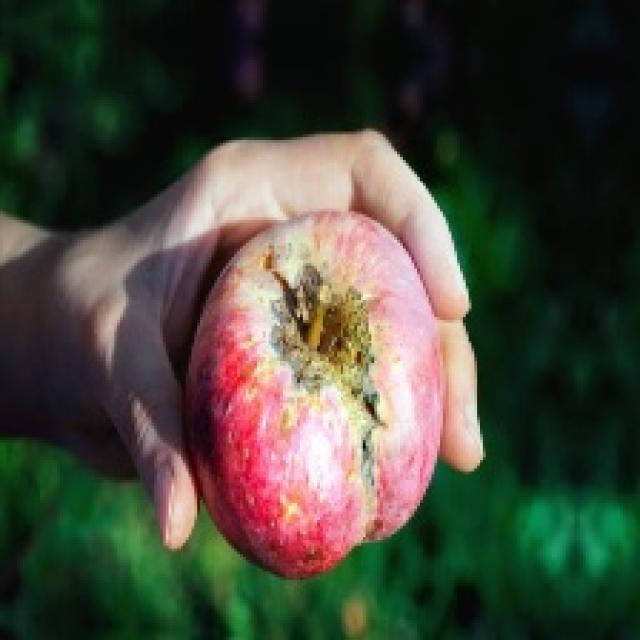rotten_apple: (190, 216, 442, 564)
